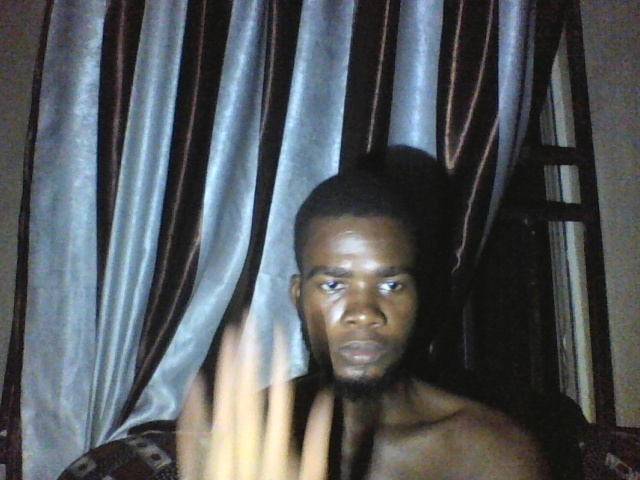hello: (177, 309, 334, 480)
